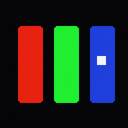1 square: (97, 56, 105, 64)
